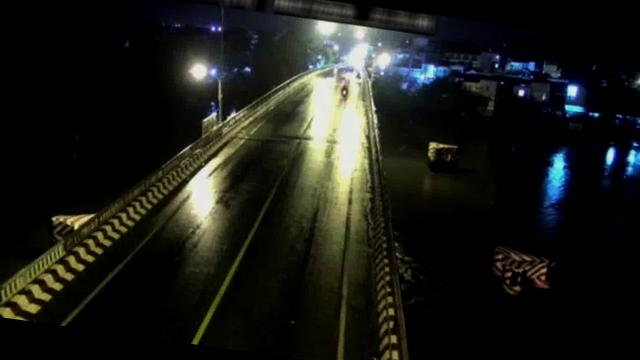Bike: (338, 84, 351, 100)
